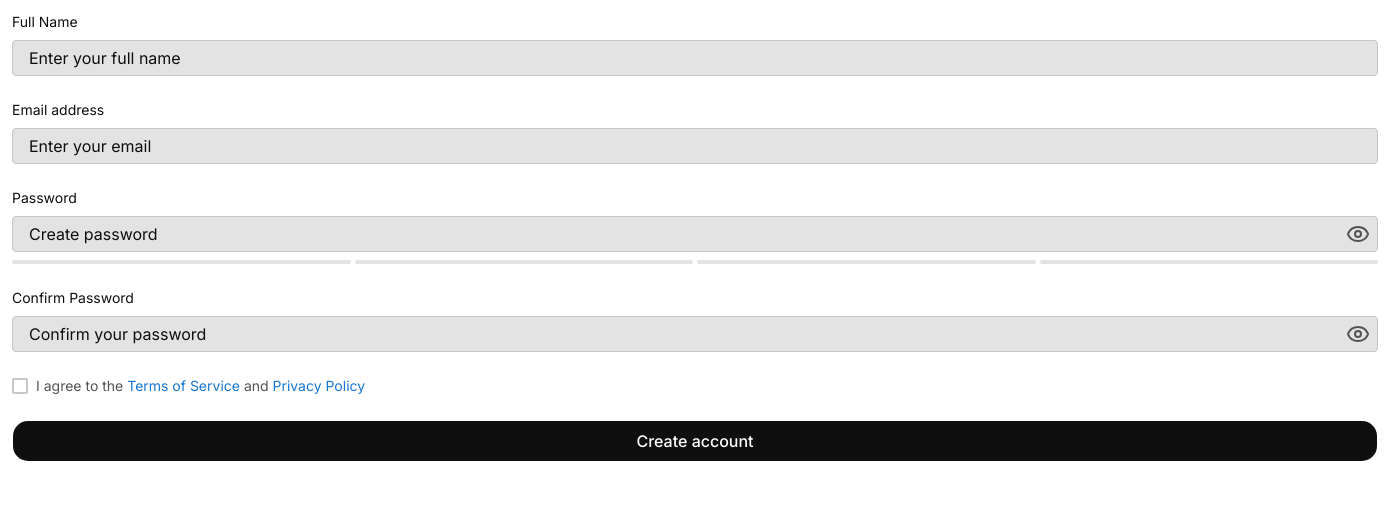
Test: <SignupForm /> wiring › maps a 409 to an inline email hint with a 'fazer login' CTA
Type "Alice Doe" into the field labelled "Full Name" at (695, 58), box x1=12 y1=40 x2=1378 y2=76
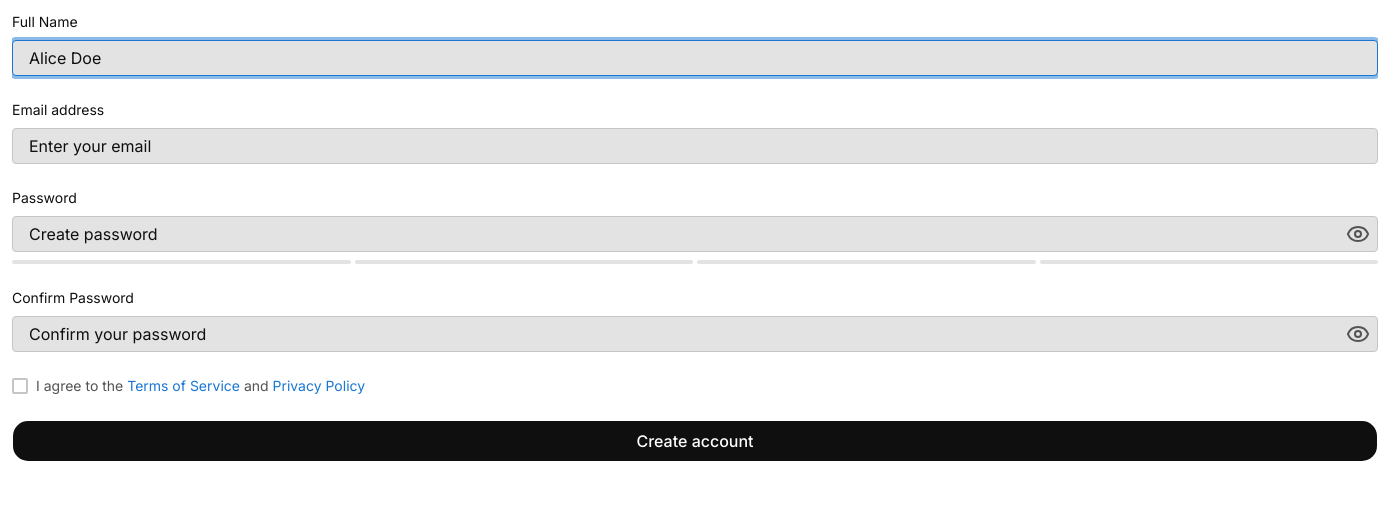
Type "alice@example.com" into the field labelled "Email address" at (695, 146), box x1=12 y1=128 x2=1378 y2=164
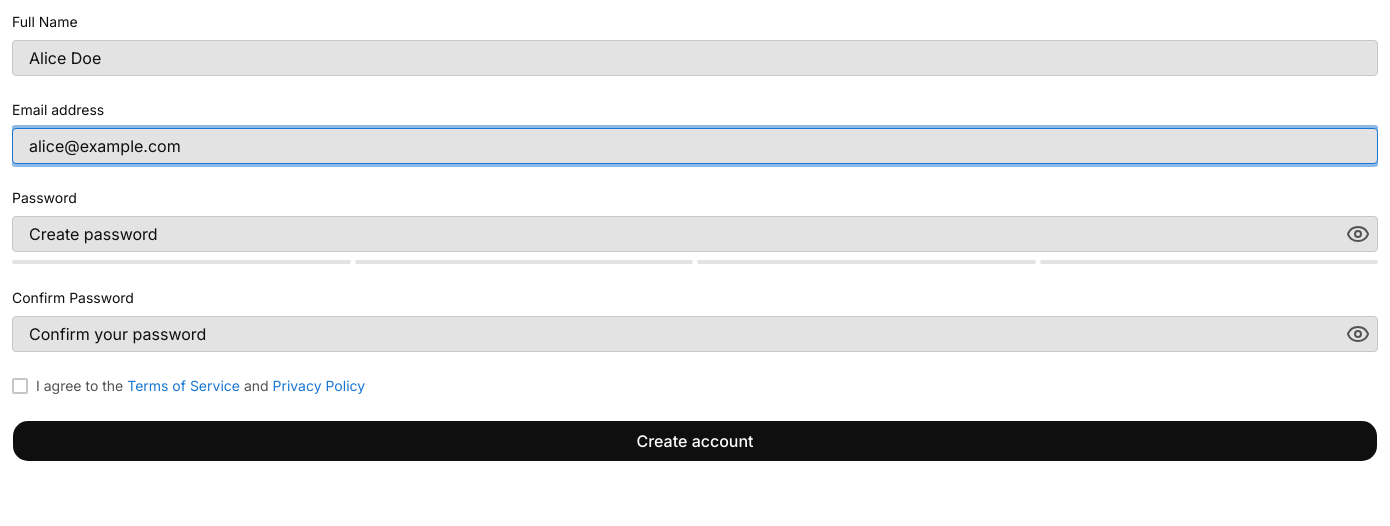
Type "Password1" into the password field labelled "Password" at (695, 234), box x1=12 y1=216 x2=1378 y2=252
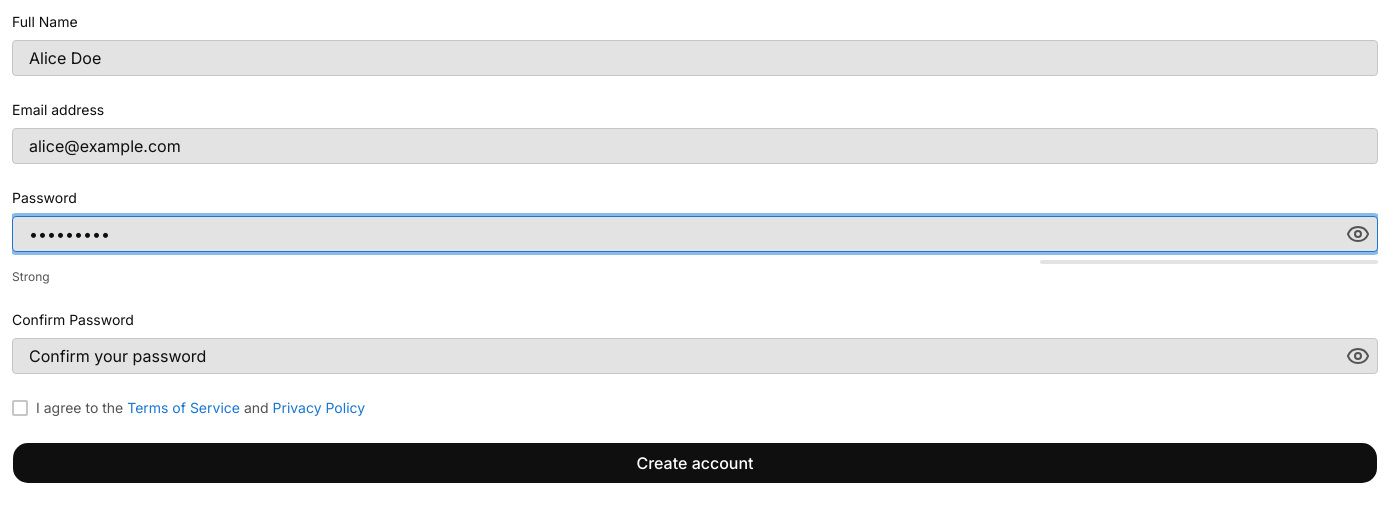
Type "Password1" into the password field labelled "Confirm Password" at (695, 356), box x1=12 y1=338 x2=1378 y2=374
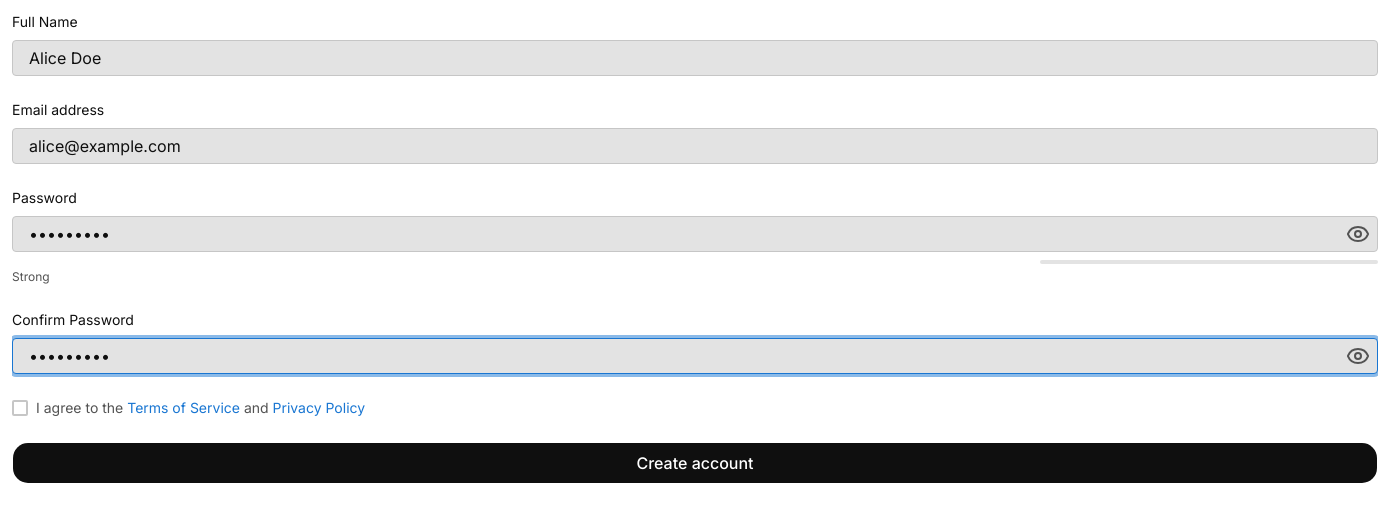
Click the checkbox at (20, 408), box x1=12 y1=400 x2=28 y2=416
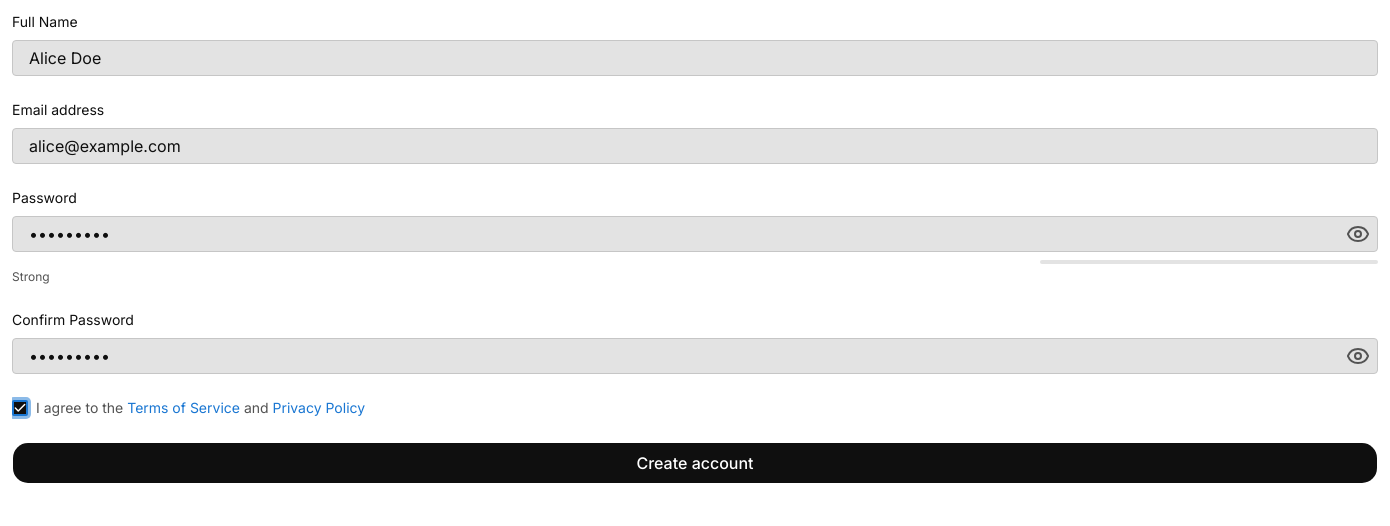
Click the button "Create account" at (695, 463), box x1=12 y1=442 x2=1378 y2=484
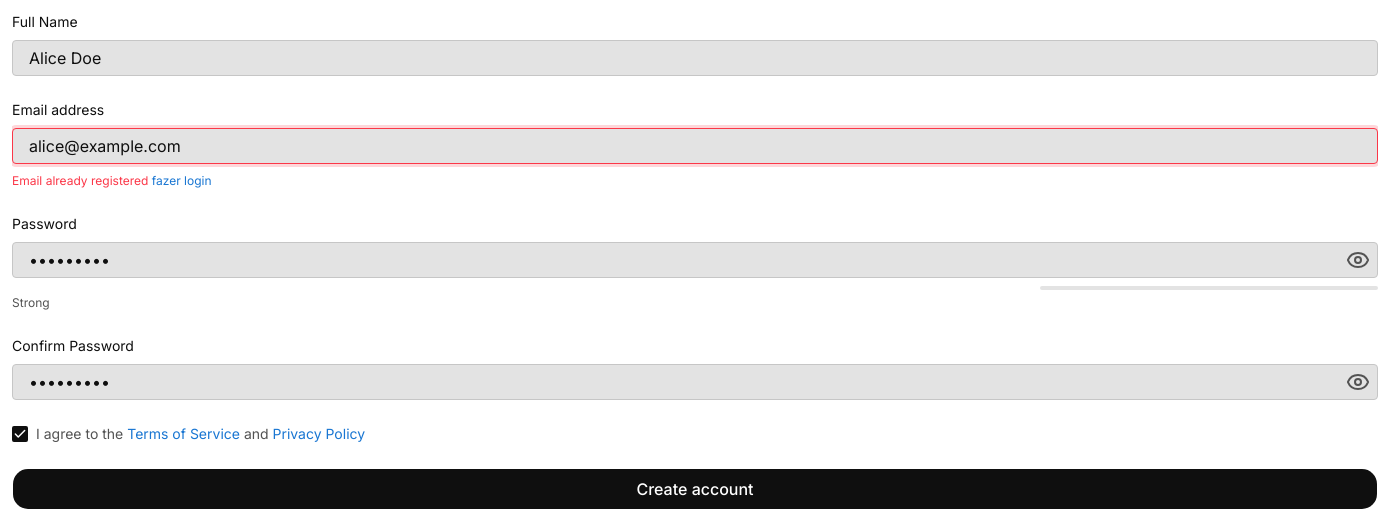
Now the text "Email already registered fazer login" is shown, box x1=12 y1=173 x2=212 y2=188
